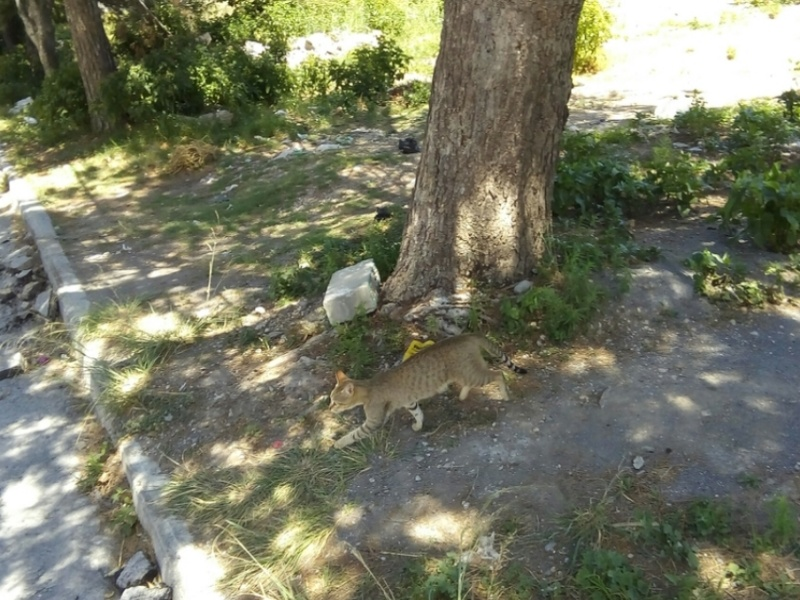cat: (328, 326, 527, 453)
